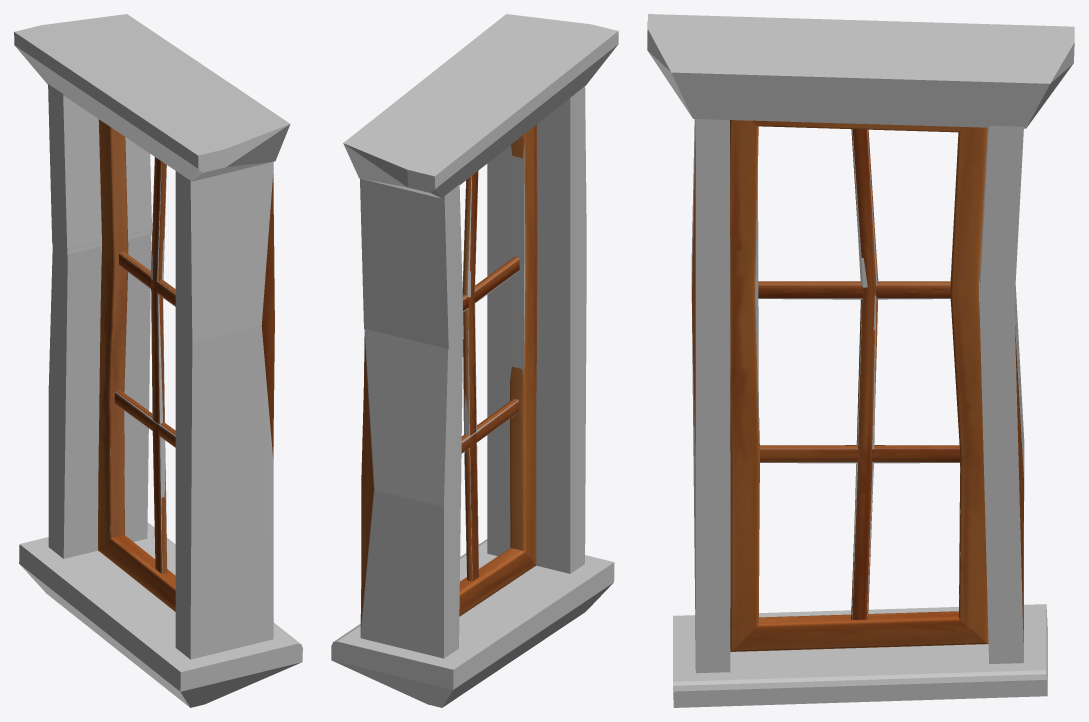
Rendered from SM_PropWindow01TypeF_2_2.fbx.
3 renders of one model, left to right at view 1: azimuth 30°, elevation 25°; view 2: azimuth 150°, elevation 25°; view 3: azimuth 270°, elevation 25°, orthographic. The views are drawn at different scales.
Visible parts, largest first — view 1: SM_PropWindow01TypeF_2_2_ConvexHulls, SM_PropWindow01TypeF_2_2; view 2: SM_PropWindow01TypeF_2_2_ConvexHulls, SM_PropWindow01TypeF_2_2; view 3: SM_PropWindow01TypeF_2_2_ConvexHulls, SM_PropWindow01TypeF_2_2.
Boxes of the visible parts, left/top/right/bottom form: SM_PropWindow01TypeF_2_2_ConvexHulls: left=14, top=14, right=302, bottom=707; SM_PropWindow01TypeF_2_2: left=98, top=119, right=274, bottom=611; SM_PropWindow01TypeF_2_2_ConvexHulls: left=331, top=14, right=618, bottom=707; SM_PropWindow01TypeF_2_2: left=361, top=124, right=537, bottom=621; SM_PropWindow01TypeF_2_2_ConvexHulls: left=647, top=14, right=1074, bottom=707; SM_PropWindow01TypeF_2_2: left=692, top=120, right=1023, bottom=651.
Bounding box in the file's own units: 45.28 × 118 × 202.
2 materials, 1 textured.
